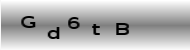6: (68, 15, 80, 29)
B: (115, 21, 130, 37)
G: (19, 14, 38, 29)
d: (47, 25, 61, 40)
t: (91, 22, 101, 36)
